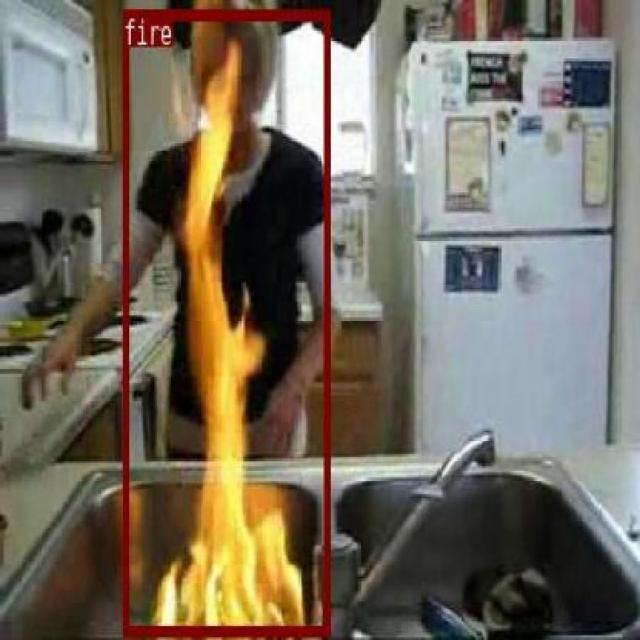Fire: (121, 9, 328, 634)
